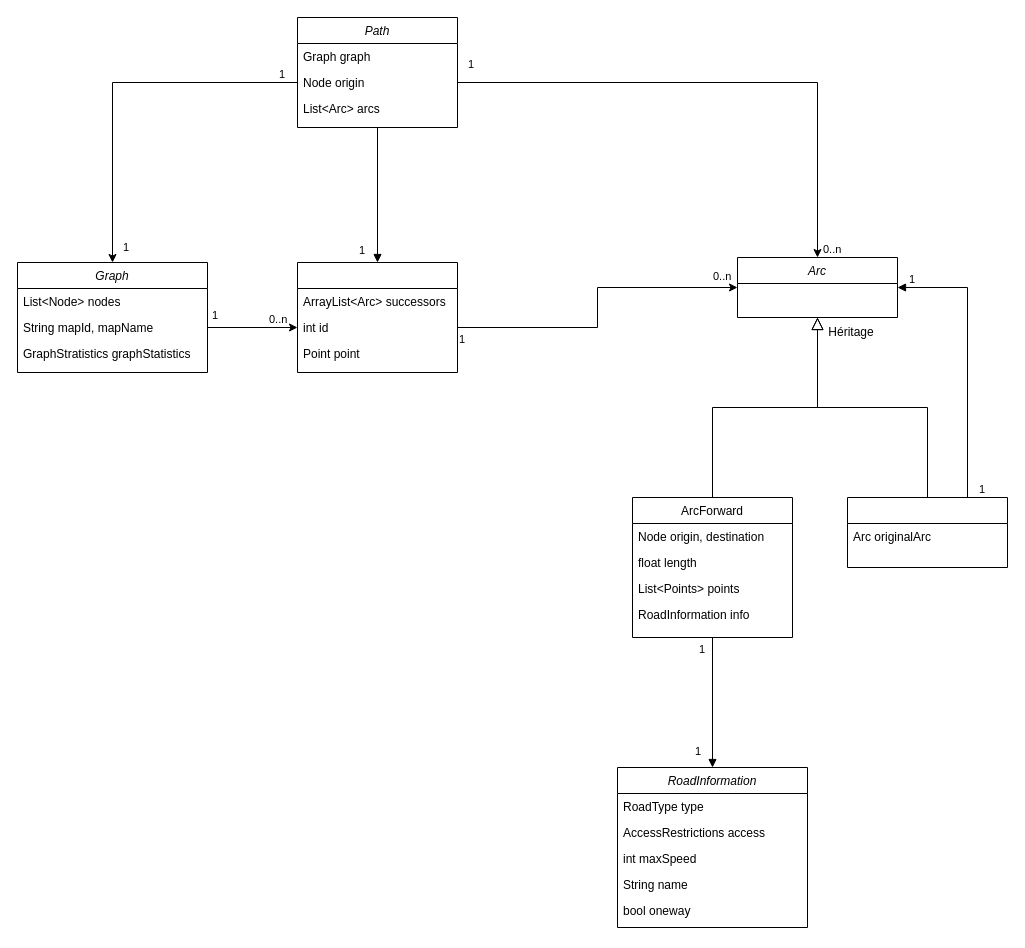
The diagram is 1025 pixels wide and 948 high, and some of its shapes have lost their labels. Here are the shapes that lost their labels. From the top down, the box of each, then its label:
(296, 262, 458, 372): Node
(846, 496, 1008, 568): ArcBackward
